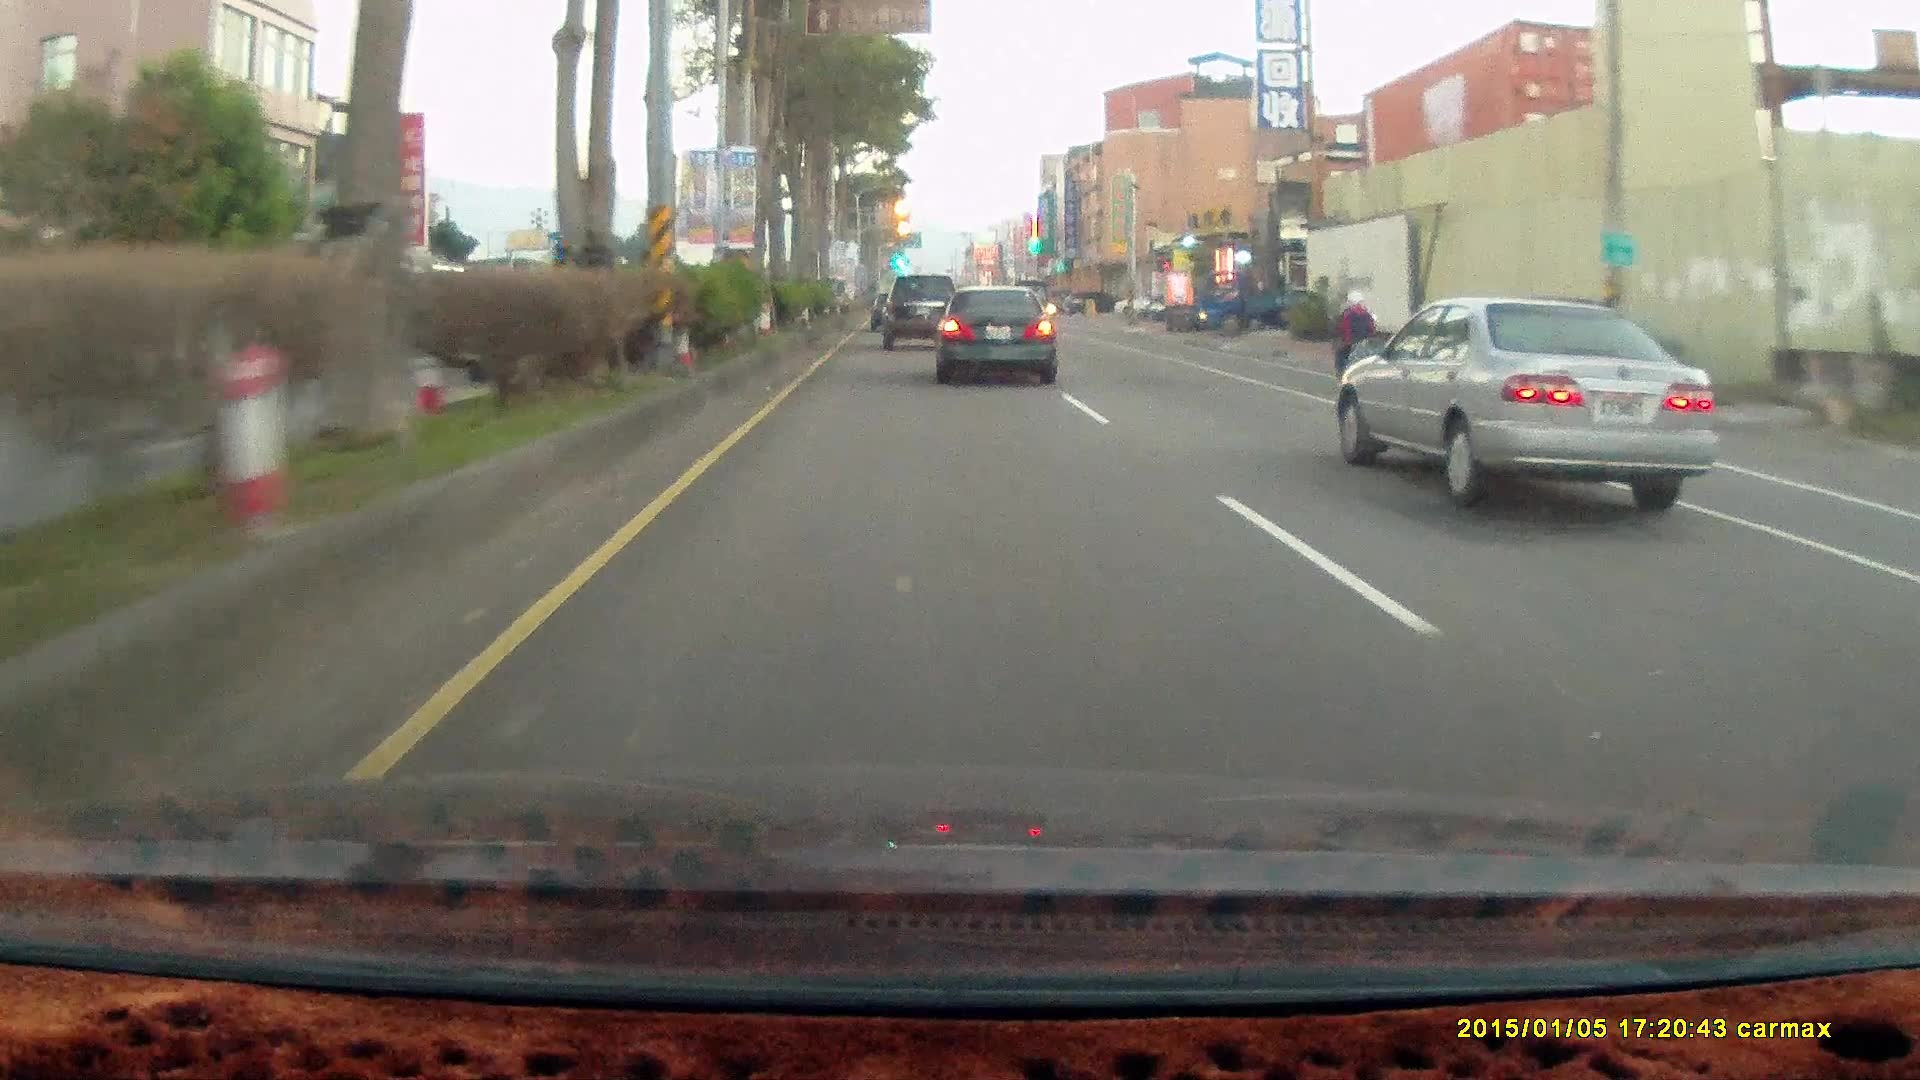rider: (1322, 283, 1390, 399), (1330, 287, 1387, 394)
vehicle: (1334, 295, 1716, 511), (1336, 303, 1720, 510), (931, 287, 1058, 387), (940, 297, 1066, 393), (1193, 265, 1316, 337), (1193, 268, 1317, 336), (887, 276, 964, 353), (883, 274, 961, 349), (1110, 293, 1162, 317), (1068, 291, 1120, 314)
